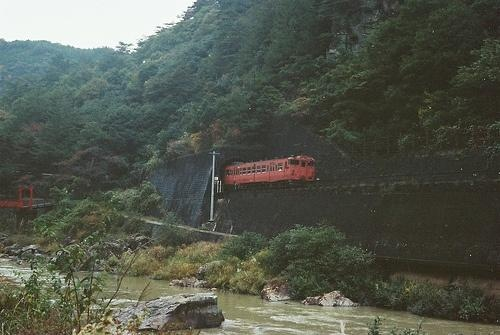train: (223, 155, 316, 190)
